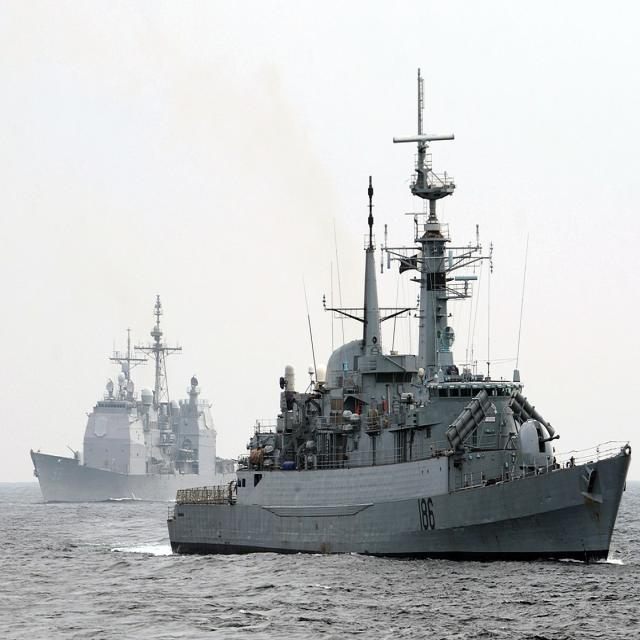navalvessels: (162, 96, 640, 564), (21, 237, 211, 554)
